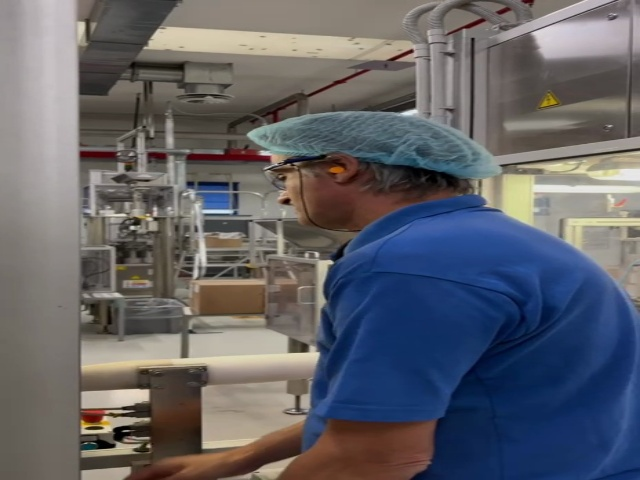Earplug: (323, 153, 360, 184)
Hairnet: (262, 112, 493, 175)
No_Helmet: (260, 111, 492, 177)
No_Vest: (328, 219, 640, 480)
Person: (250, 111, 640, 480)
Safety_Goggles: (266, 155, 327, 182)
